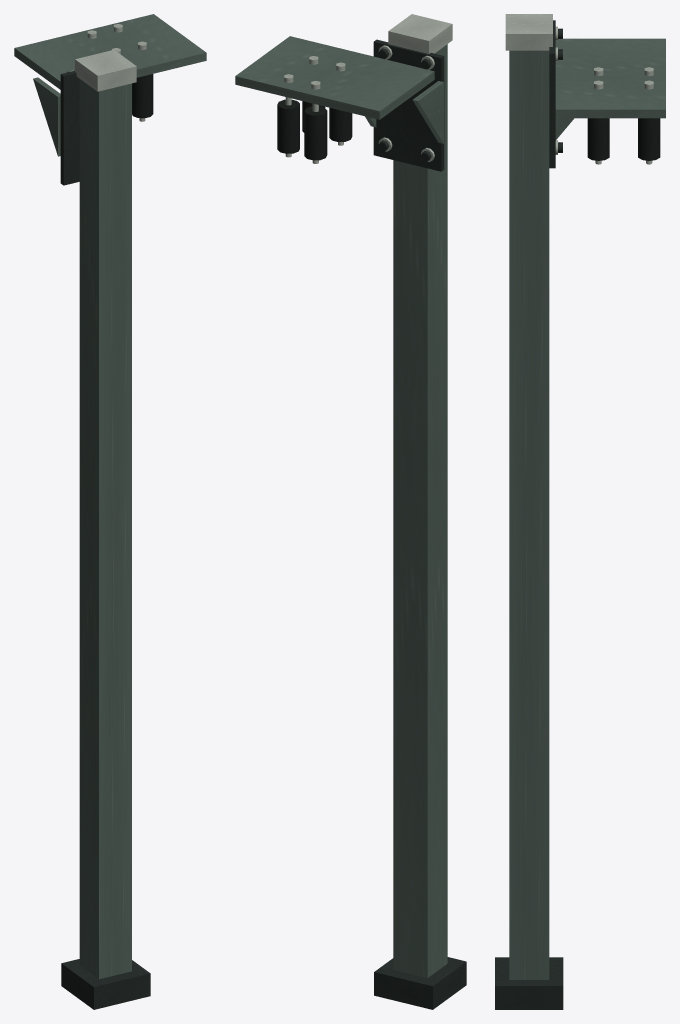
File: SG_GuidePost.glb
3 views of the same model, side by side, from view 1: azimuth 30°, elevation 25°; view 2: azimuth 150°, elevation 25°; view 3: azimuth 270°, elevation 25° (orthographic). The views are drawn at different scales.
Parts seen in each view (by area): view 1: SG_Post_Right; view 2: SG_Post_Right; view 3: SG_Post_Right.
Boxes of the visible parts, x1,y1,x2,y2 form: SG_Post_Right: (14, 14, 206, 1009); SG_Post_Right: (235, 14, 466, 1009); SG_Post_Right: (495, 14, 665, 1009).
Size of the model in its own units: 0.341 by 2.04 by 0.325.
Materials: 1 (1 with a texture image).
